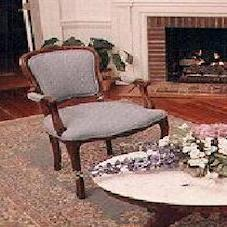chair: (6, 24, 173, 177)
